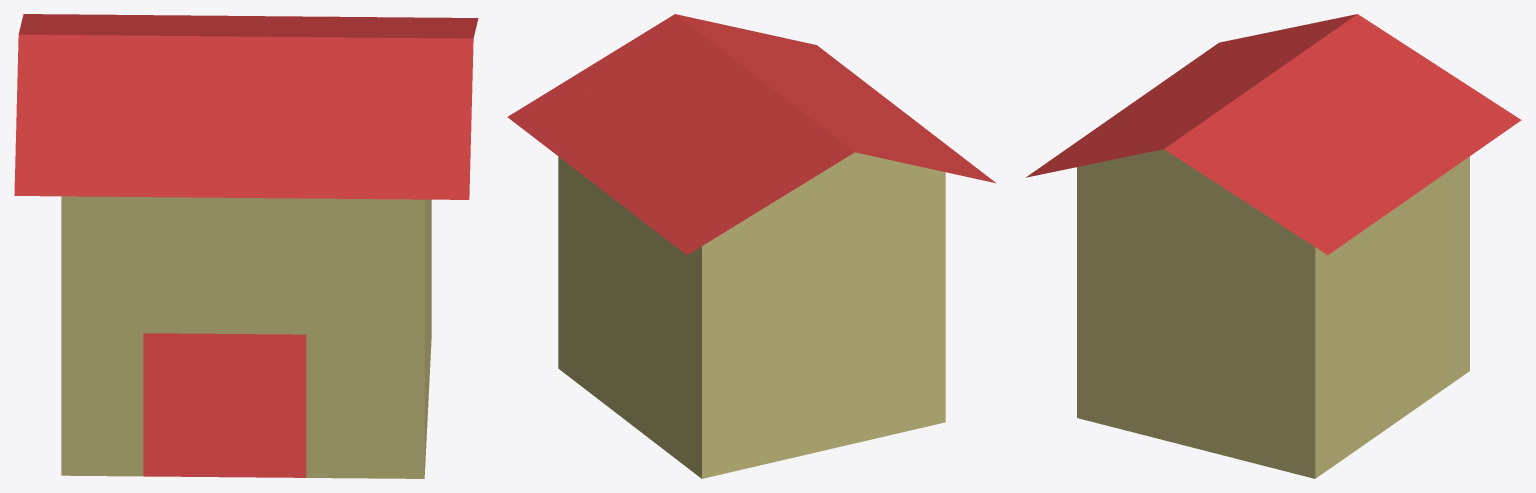
The picture shows the model from 3 angles, left to right: view 1: azimuth 30°, elevation 25°; view 2: azimuth 150°, elevation 25°; view 3: azimuth 270°, elevation 25°; orthographic projection. The views are drawn at different scales.
Bounding box in the file's own units: 13.37 × 13.19 × 9.08.
